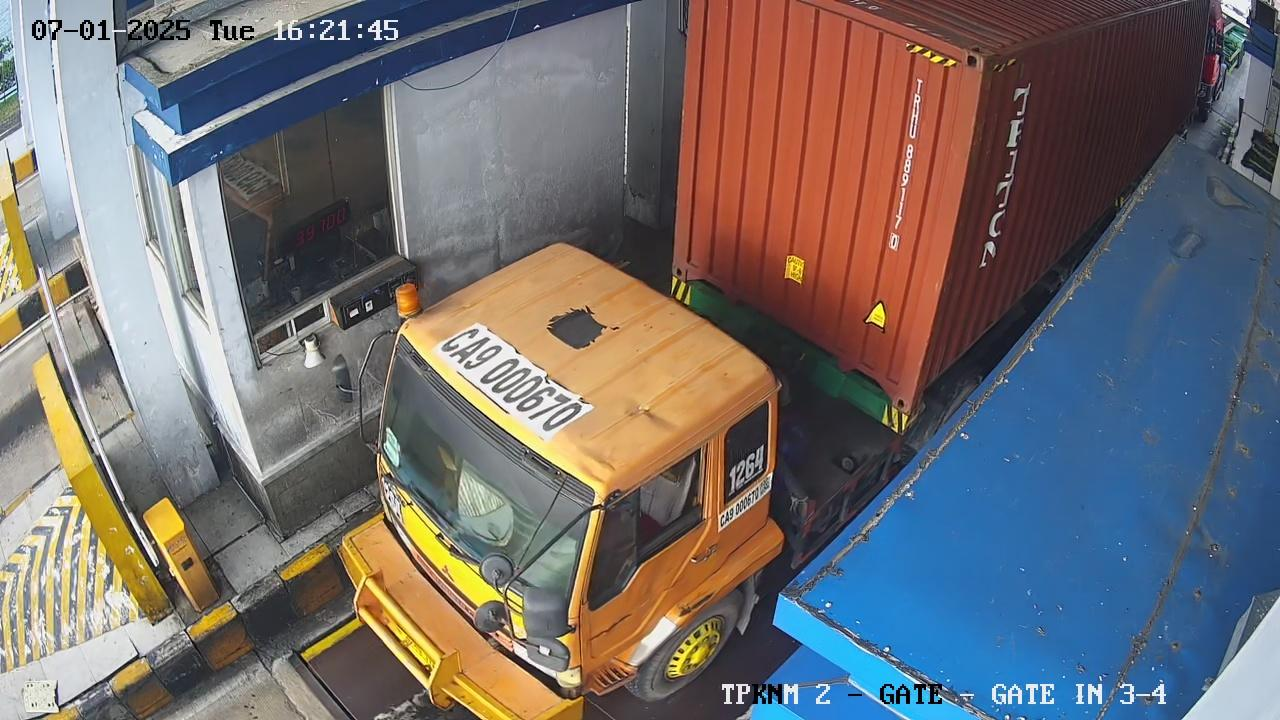Container_ID_Vertikal: (875, 52, 946, 255)
truck_id: (420, 307, 602, 465), (699, 477, 776, 538)
